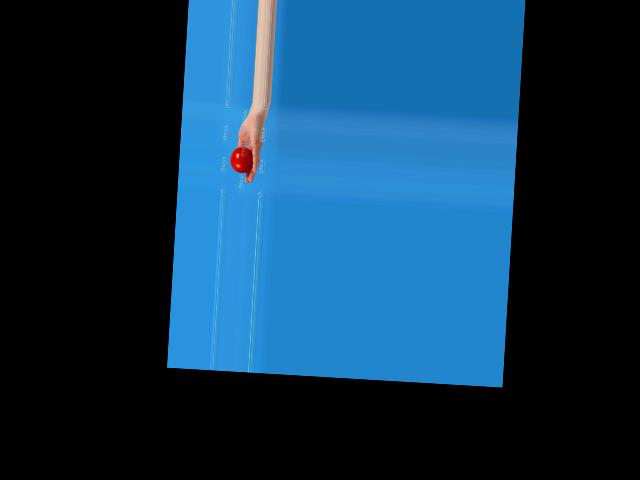tomato: (230, 146, 253, 173)
